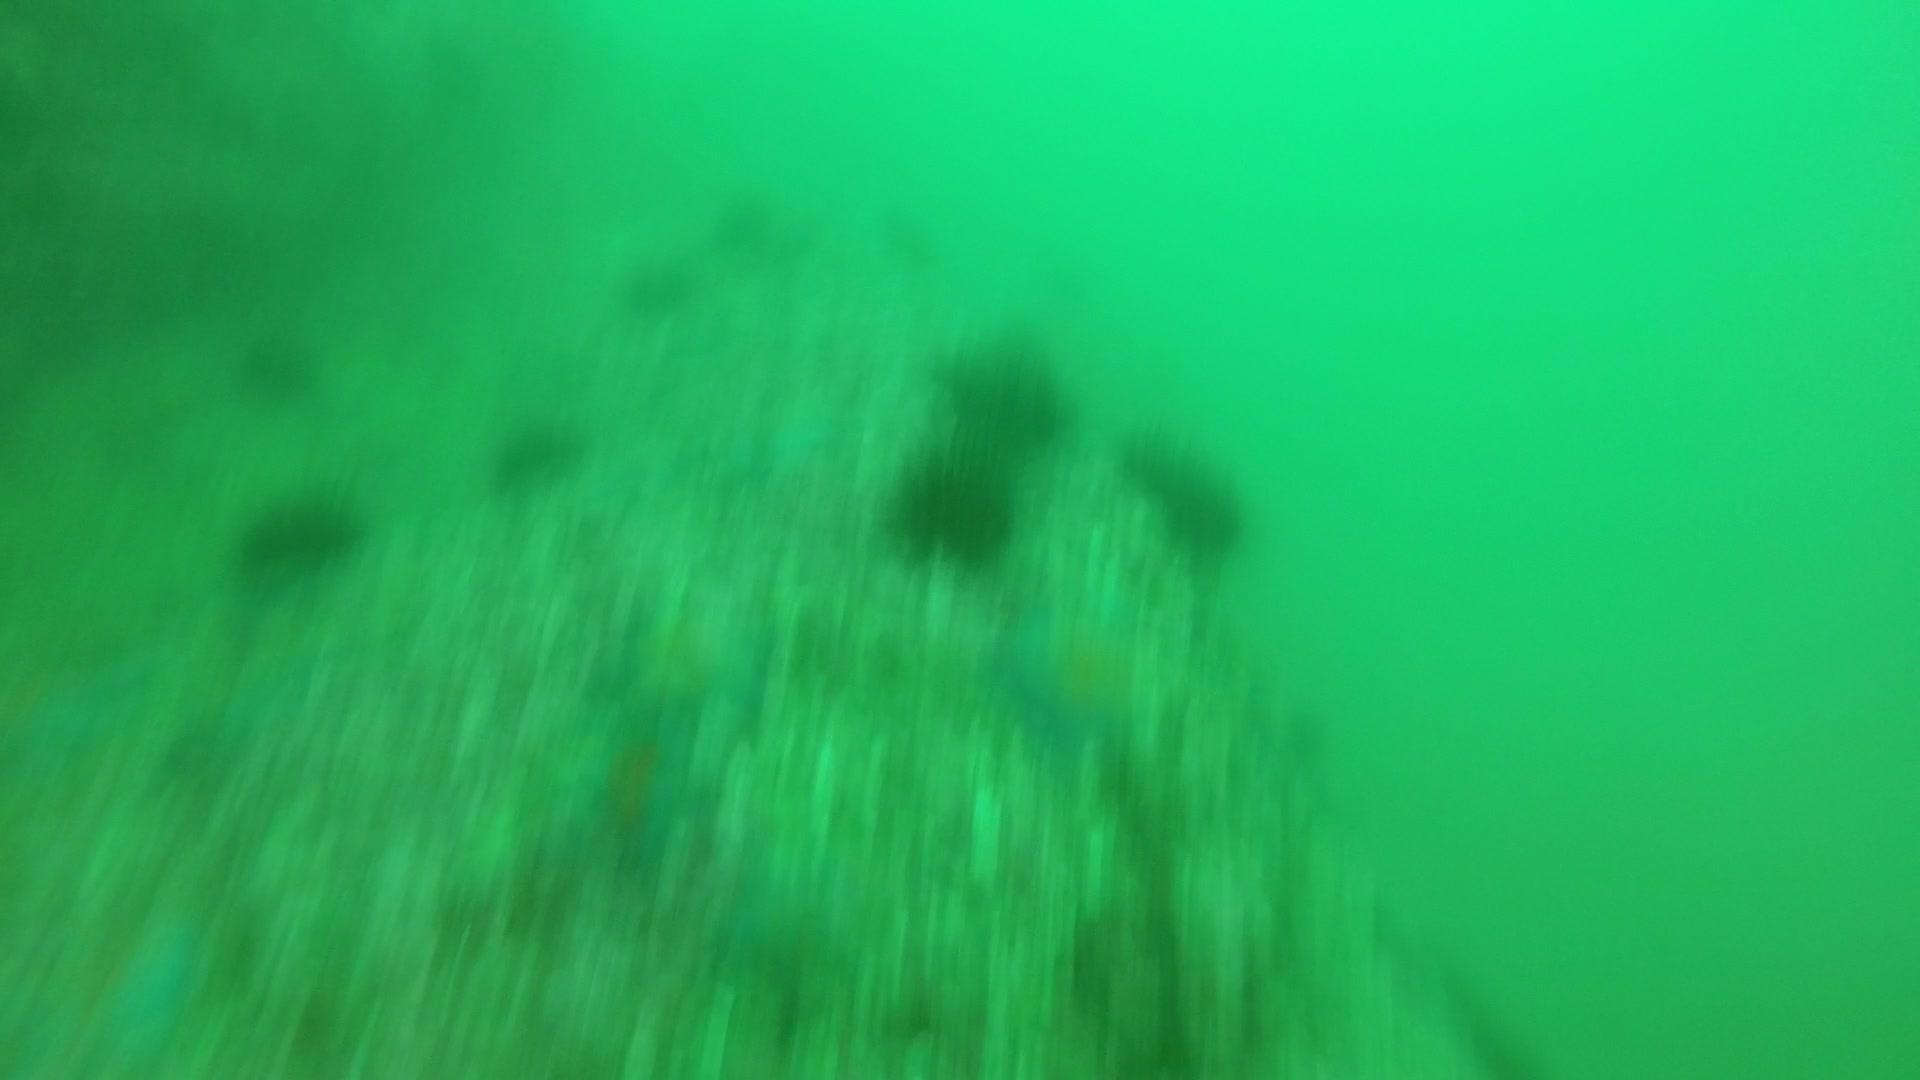echinus: (1116, 425, 1255, 560), (886, 446, 1021, 570), (934, 336, 1072, 456), (231, 480, 368, 583), (487, 407, 589, 493), (233, 320, 327, 405), (709, 185, 789, 258), (616, 248, 696, 319)
starfish: (8, 894, 218, 1080), (601, 583, 781, 752), (988, 587, 1156, 765), (545, 694, 712, 872), (3, 644, 149, 777), (700, 368, 849, 484)
